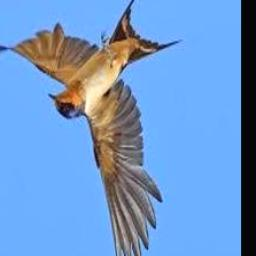Swallow: (0, 0, 184, 256)
